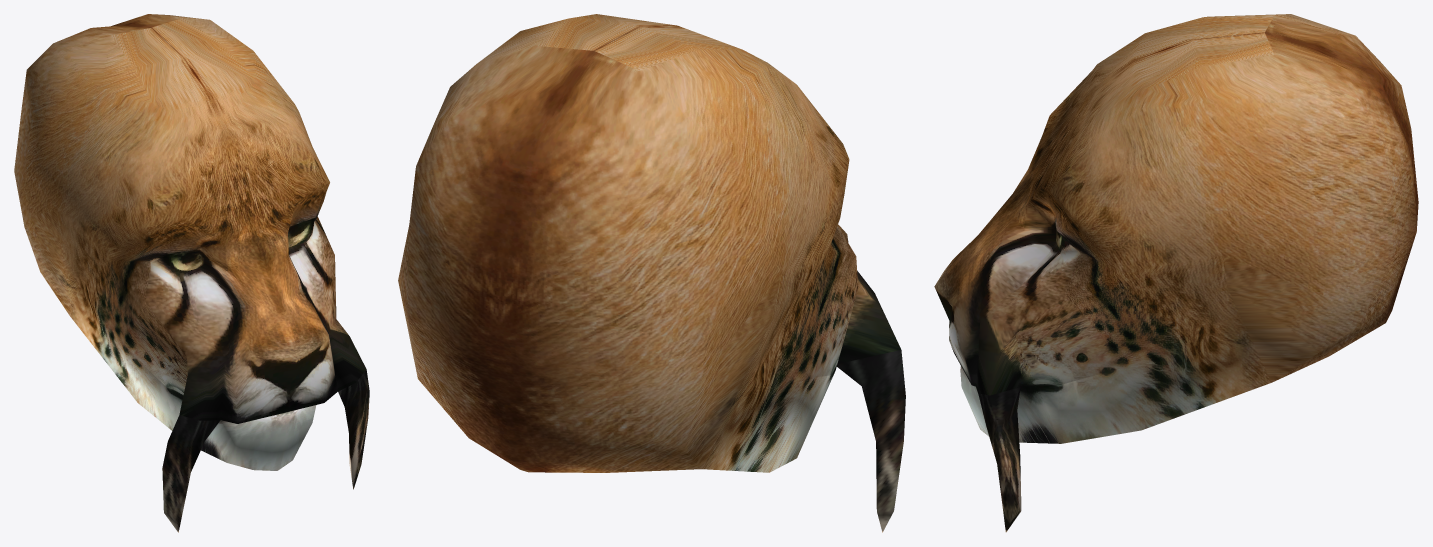
Rendered from b_n_khajiit_m_head_03.glb.
3 renders of one model, left to right at view 1: azimuth 30°, elevation 25°; view 2: azimuth 150°, elevation 25°; view 3: azimuth 270°, elevation 25°, orthographic. The views are drawn at different scales.
Parts seen in each view (by area): view 1: Tri B_N_Khajiit_M_Head_03; view 2: Tri B_N_Khajiit_M_Head_03; view 3: Tri B_N_Khajiit_M_Head_03.
Part boxes in pixels (x1,y1,x2,y2): Tri B_N_Khajiit_M_Head_03: [14, 14, 369, 532]; Tri B_N_Khajiit_M_Head_03: [398, 14, 905, 532]; Tri B_N_Khajiit_M_Head_03: [934, 14, 1418, 532].
Size of the model in its own units: 0.0971 by 0.163 by 0.1582.
Materials: 1 (1 with a texture image).
